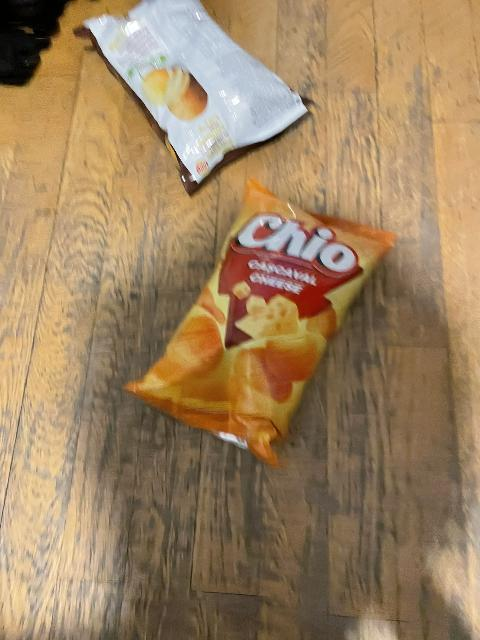Chio Cascaval 125g: (116, 180, 398, 458)
Lays Beef Grilled Ribs 125g: (81, 3, 309, 192)
